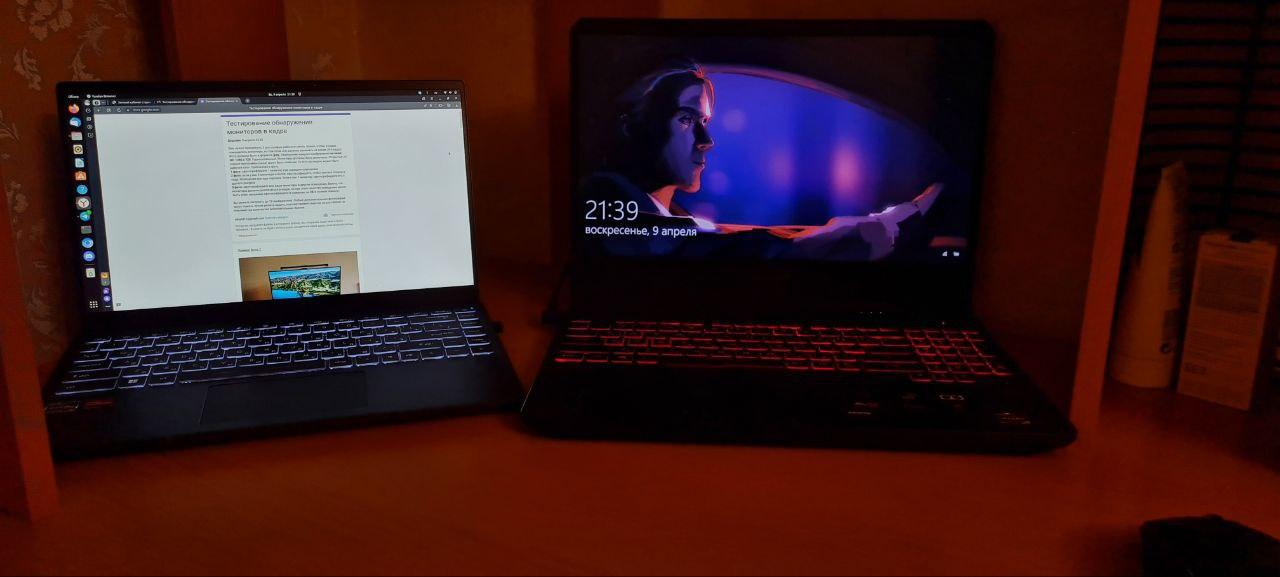monitor: (556, 10, 1009, 330), (49, 66, 484, 341)
